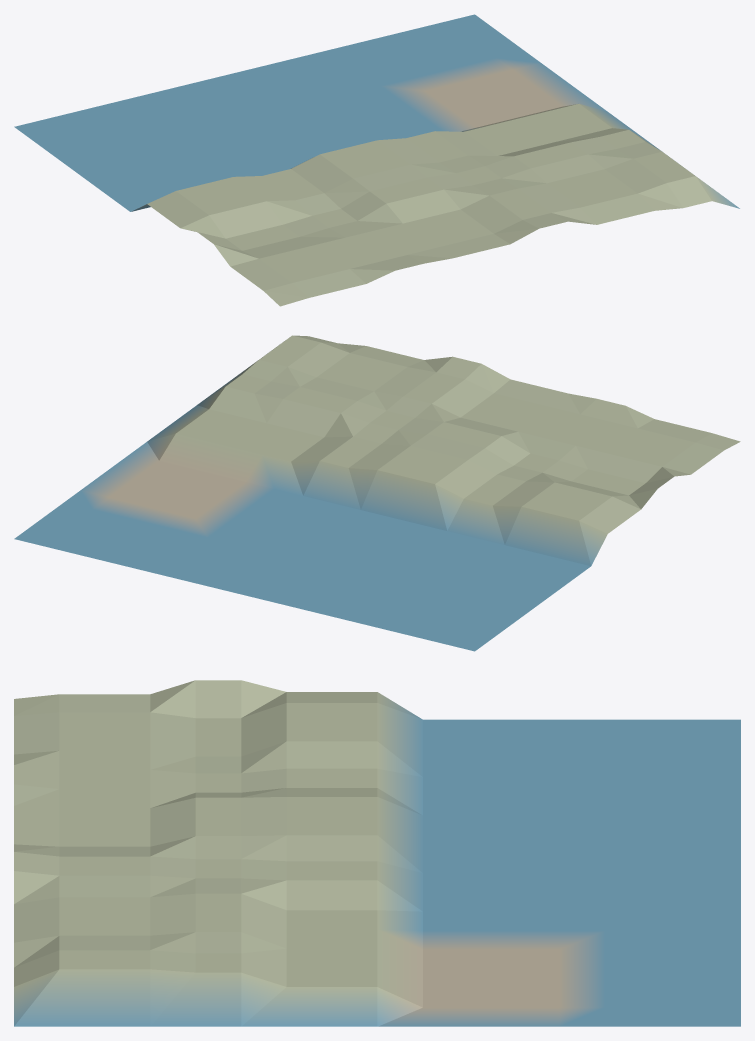
3 renders of one model, top to bottom at view 1: azimuth 30°, elevation 25°; view 2: azimuth 150°, elevation 25°; view 3: azimuth 270°, elevation 25°, orthographic. The views are drawn at different scales.
Bounding box in the file's own units: 32 × 1.97 × 32.
